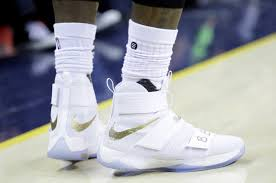nike: (98, 117, 160, 142)
